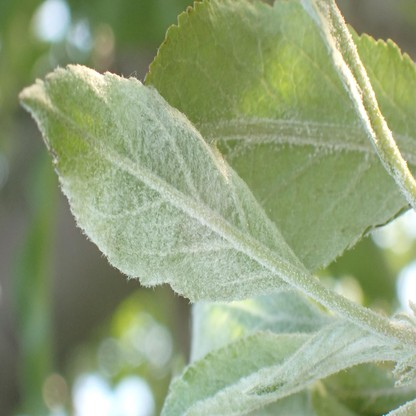powdery_mildew: (19, 64, 302, 298), (196, 71, 416, 271), (162, 320, 394, 416), (309, 2, 416, 209)
scab: (207, 307, 227, 330), (233, 298, 256, 308), (231, 326, 243, 340)
